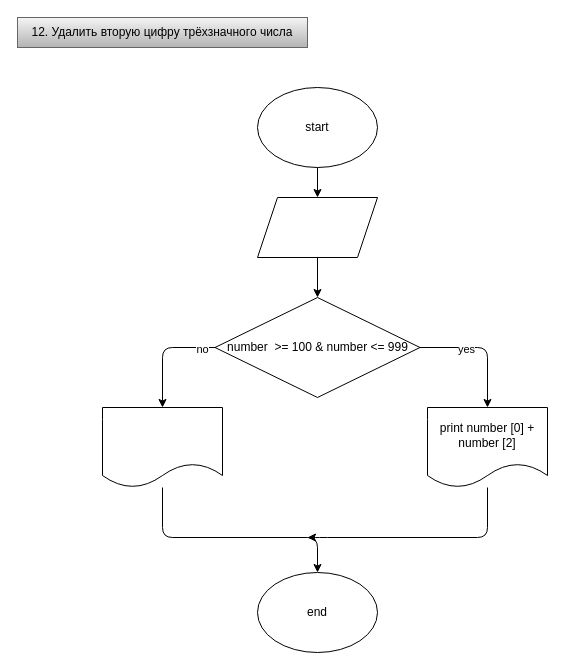
Some shapes in this 565 by 670 pixel diagram are drawn without their labels. The centre of each missing label's shape, as x and y in pixels:
number: point 317,227
print " число не трехзначное ": point 162,447
